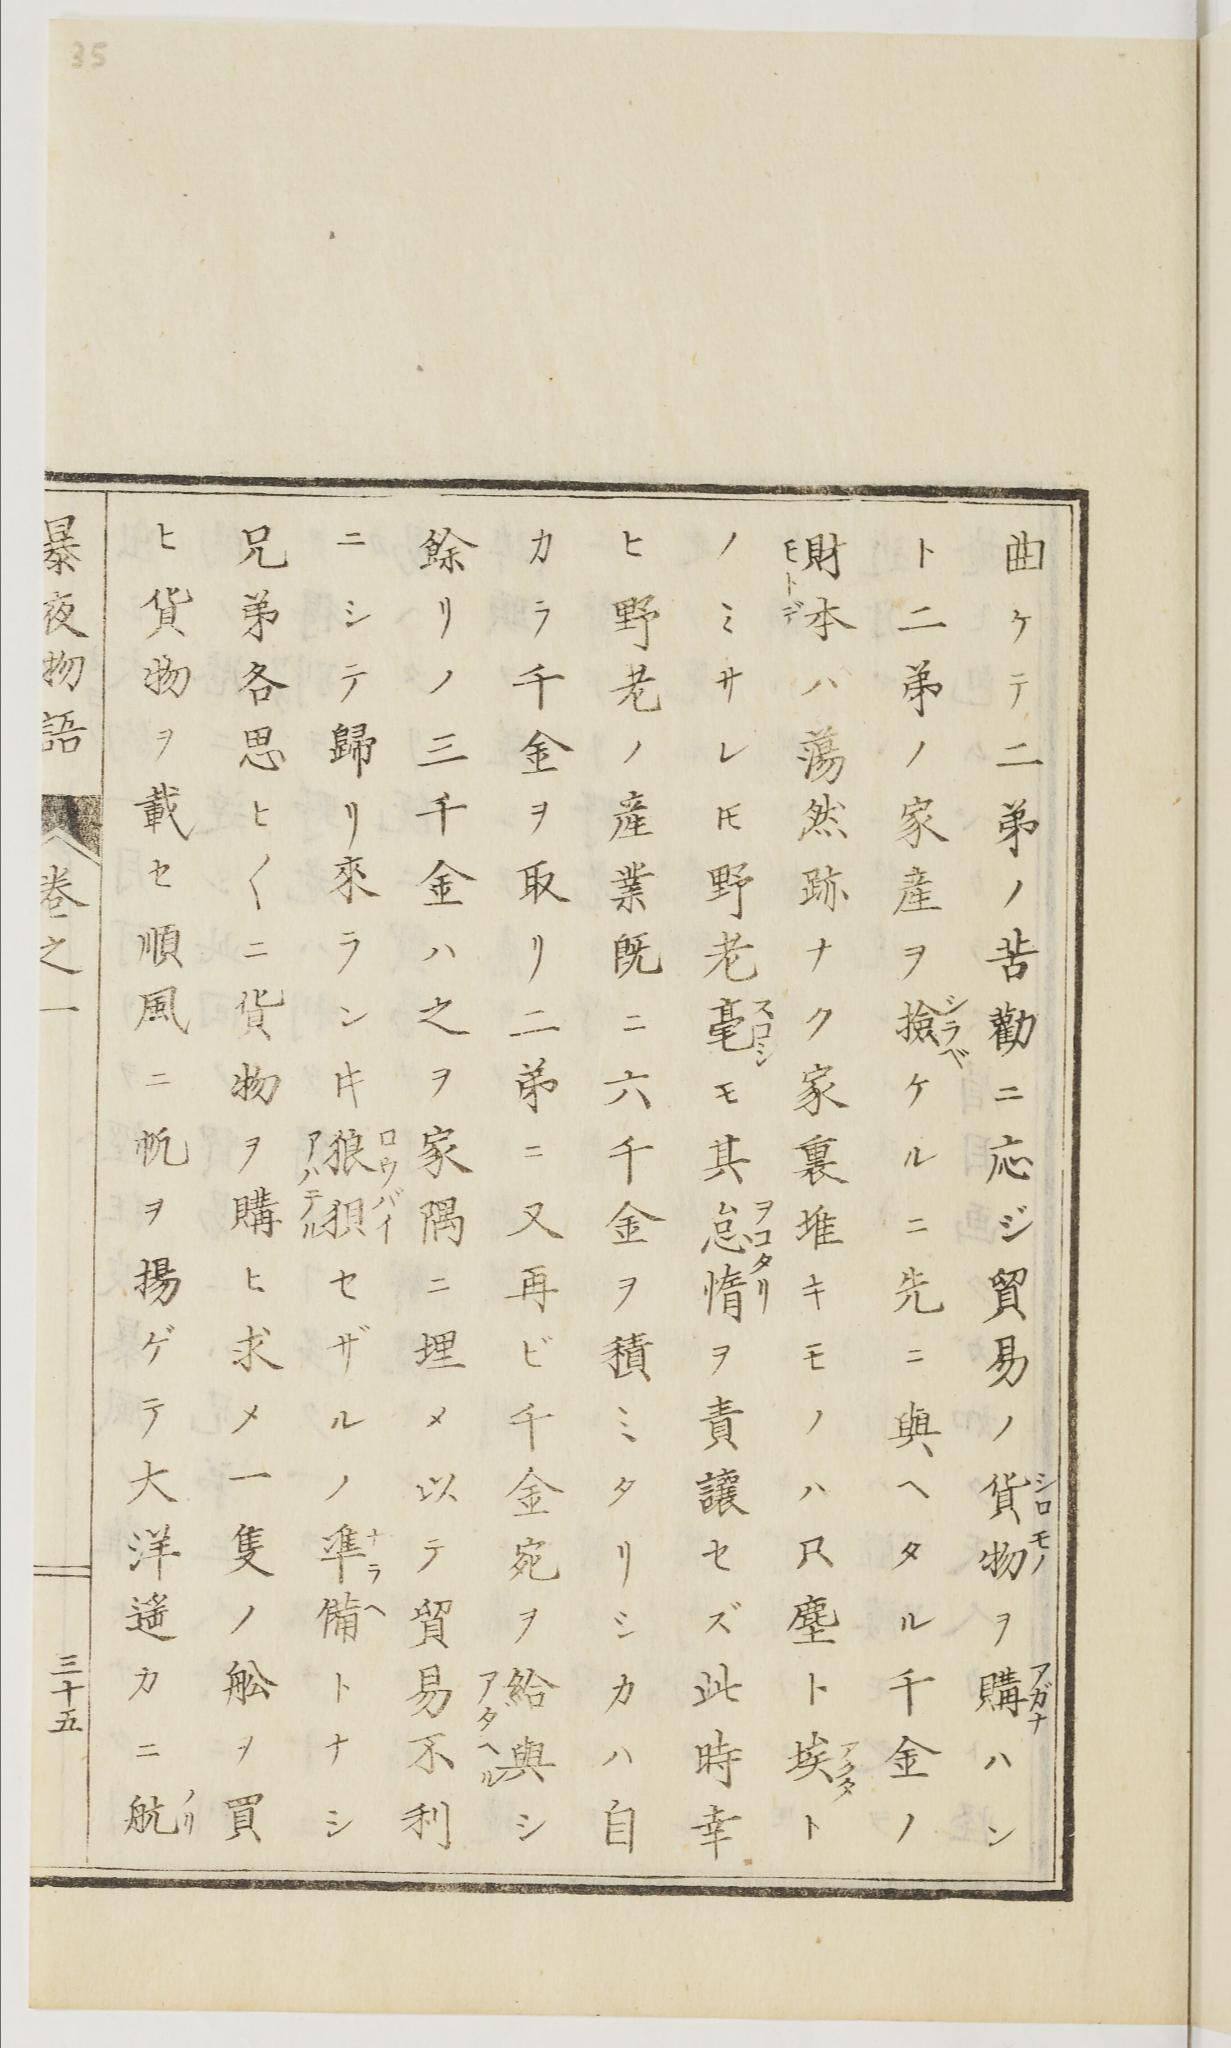MainZone-Character: (699, 1249, 784, 1331), (893, 990, 975, 1074), (974, 1665, 1064, 1736), (323, 1189, 412, 1252), (306, 1521, 390, 1587), (708, 996, 781, 1071), (784, 1725, 863, 1792), (327, 1123, 409, 1188), (694, 1195, 784, 1252), (968, 1523, 1053, 1583), (971, 1463, 1056, 1521), (311, 1589, 386, 1641)
MainZone-Ruby: (367, 1185, 409, 1249), (943, 989, 971, 1071), (371, 1125, 404, 1185), (751, 999, 778, 1072), (751, 1249, 778, 1319), (1031, 1663, 1056, 1735), (364, 1524, 389, 1590), (836, 1741, 860, 1807), (751, 1198, 778, 1252), (1029, 1467, 1057, 1517), (1031, 1527, 1051, 1578), (360, 1599, 389, 1621)
